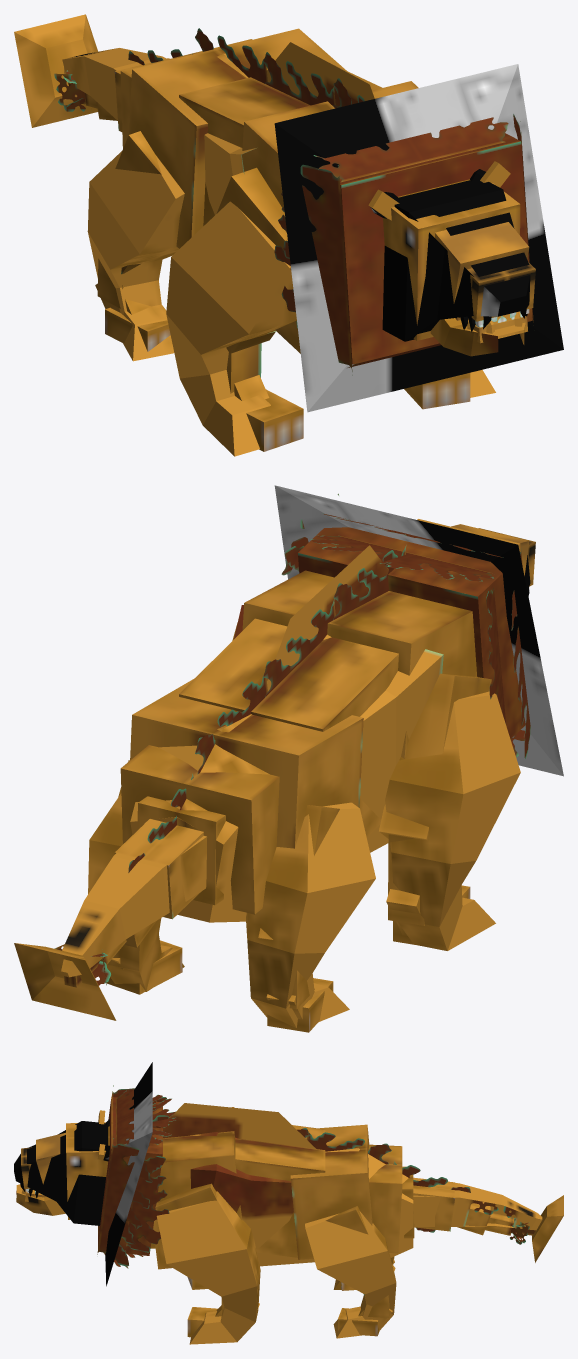
File: feradon.obj
3 renders of one model, top to bottom at view 1: azimuth 30°, elevation 25°; view 2: azimuth 150°, elevation 25°; view 3: azimuth 270°, elevation 25°, orthographic. The views are drawn at different scales.
Parts seen in each view (by area): view 1: Head.001, Head, Body, LegRightFront.001, LegRightBack.001, Tail.001, LegRightFront, Body.001, LegRightBack, Mouth.001, Tail, LegLeftFront (+1 smaller); view 2: Body, LegRightFront.001, LegRightBack.001, Head, Body.001, Head.001, Tail.001, Tail, LegRightFront, LegLeftBack.001, LegRightBack, LegLeftBack; view 3: Body, Head, Body.001, LegLeftFront.001, Head.001, LegLeftBack.001, Tail.001, Tail, LegLeftBack, LegLeftFront, Mouth.001.
Boxes of the visible parts, x1,y1,x2,y2 form: Head.001: (274,64,563,412); Head: (274,114,535,375); Body: (120,28,418,353); LegRightFront.001: (166,201,296,456); LegRightBack.001: (87,150,184,361); Tail.001: (14,14,166,127); LegRightFront: (216,167,303,451); Body.001: (204,42,374,333); LegRightBack: (95,131,170,351); Mouth.001: (430,311,525,356); Tail: (54,49,192,131); LegLeftFront: (404,373,470,409); Body: (120,545,477,914); LegRightFront.001: (385,691,520,950); LegRightBack.001: (246,802,375,1027); Head: (281,493,535,758); Body.001: (130,545,443,922); Head.001: (274,485,563,776); Tail.001: (14,822,207,1020); Tail: (54,773,225,987); LegRightFront: (378,673,491,944); LegLeftBack.001: (88,793,184,991); LegRightBack: (258,805,339,1032); LegLeftBack: (106,760,182,994); Body: (150,1107,402,1269); Head: (21,1085,176,1268); Body.001: (160,1103,413,1266); LegLeftFront.001: (156,1191,260,1344); Head.001: (14,1062,152,1286); LegLeftBack.001: (305,1211,396,1338); Tail.001: (413,1183,563,1262); Tail: (393,1161,535,1244); LegLeftBack: (325,1206,395,1336); LegLeftFront: (155,1183,259,1337); Mouth.001: (16,1184,65,1215).
Bounding box in the file's own units: 1.88 × 2.19 × 5.16.
